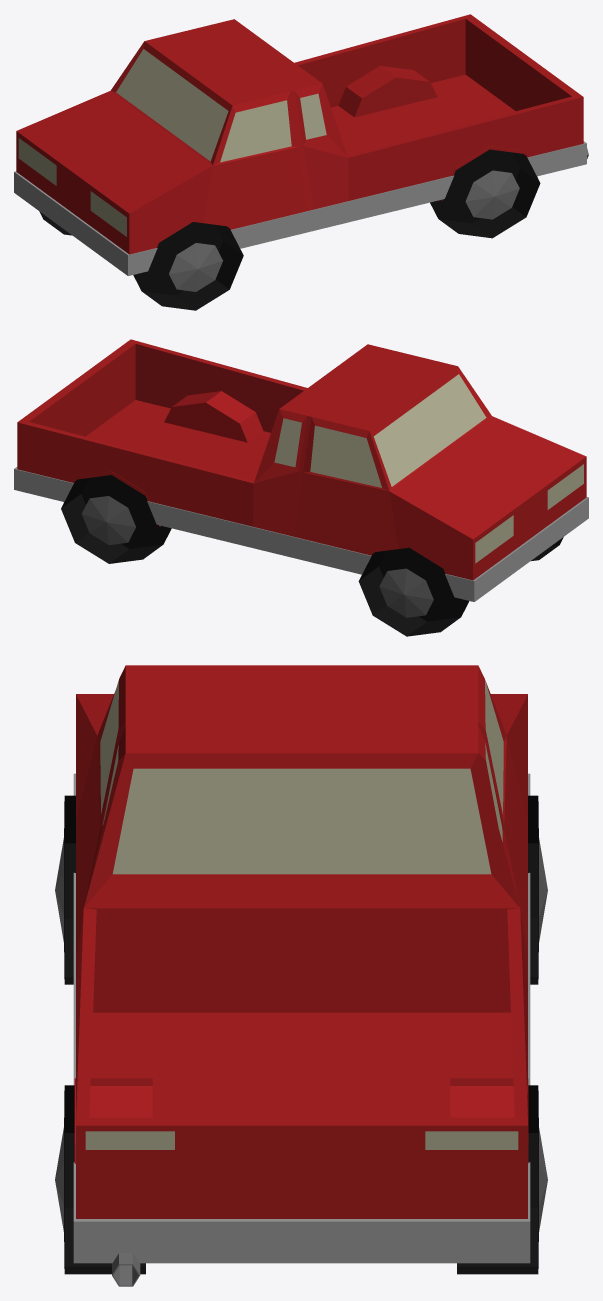
File: Caminhonete.fbx
3 views of the same model, one above another, from view 1: azimuth 30°, elevation 25°; view 2: azimuth 150°, elevation 25°; view 3: azimuth 270°, elevation 25° (orthographic). The views are drawn at different scales.
Visible parts, largest first — view 1: Caminhonete; view 2: Caminhonete; view 3: Caminhonete.
Part boxes in pixels (x1,y1,x2,y2): Caminhonete: (14,14,588,310); Caminhonete: (14,339,588,636); Caminhonete: (55,665,547,1286).
Bounding box in the file's own units: 461 × 170 × 209.
